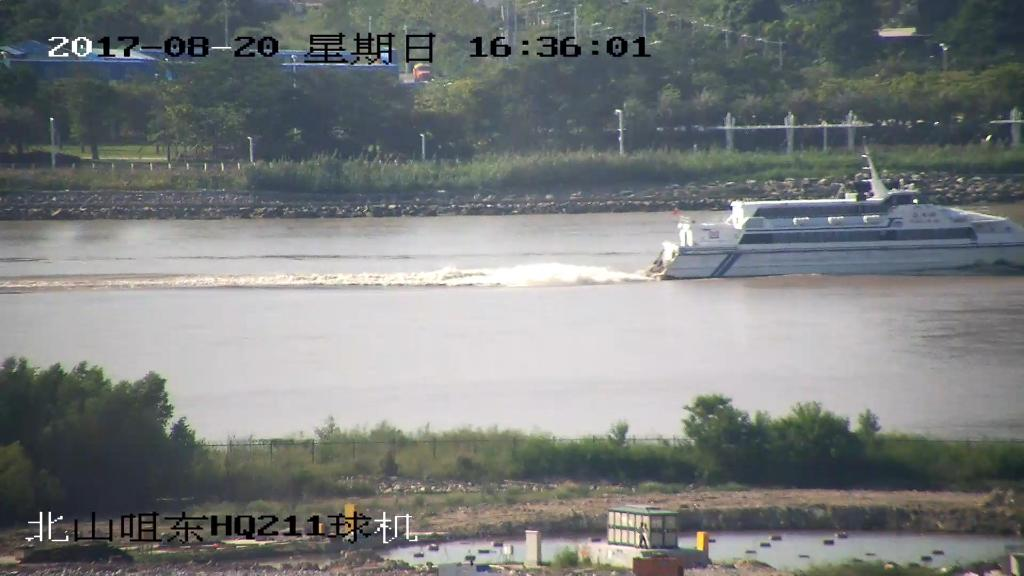PassengerShip: (646, 153, 1024, 294)
